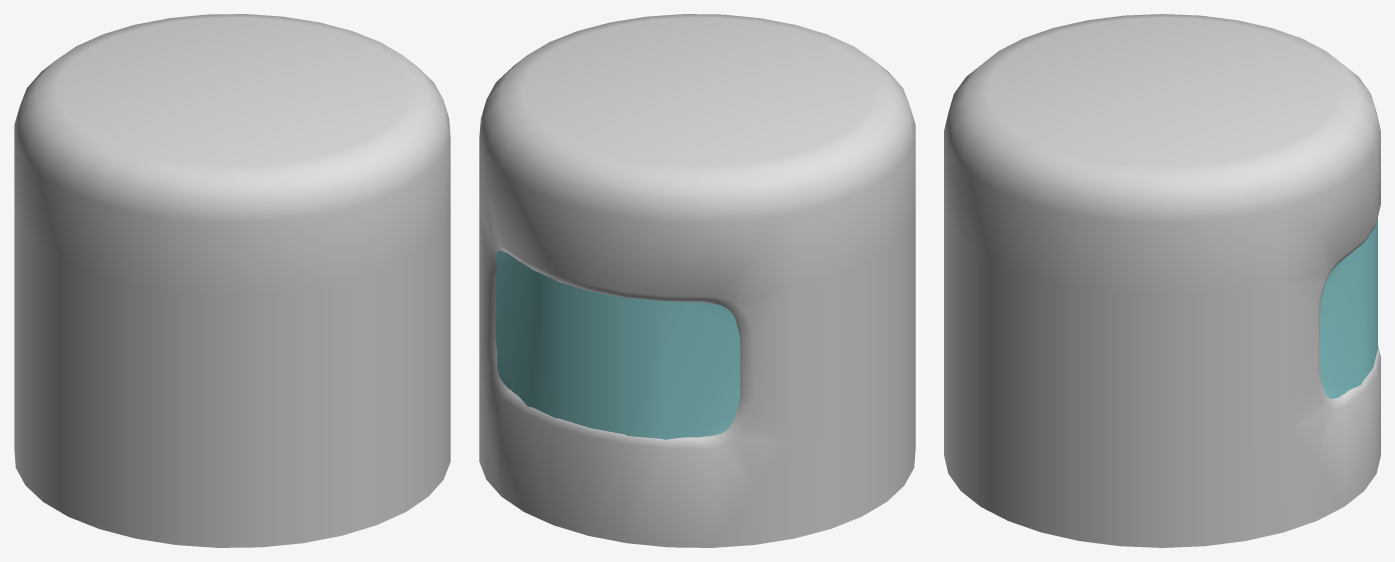
The picture shows the model from 3 angles, left to right: view 1: azimuth 30°, elevation 25°; view 2: azimuth 150°, elevation 25°; view 3: azimuth 270°, elevation 25°; orthographic projection.
Visible parts, largest first — view 1: Cylinder; view 2: Cylinder, Cylinder.001; view 3: Cylinder, Cylinder.001.
Part boxes in pixels (bbox=[...]): Cylinder: bbox=[14, 14, 450, 547]; Cylinder: bbox=[479, 14, 915, 547]; Cylinder.001: bbox=[495, 250, 740, 439]; Cylinder: bbox=[944, 14, 1380, 547]; Cylinder.001: bbox=[1320, 218, 1377, 398].
Bounding box in the file's own units: 999 × 917 × 999.
